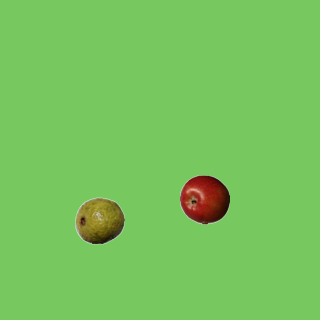Apple Braeburn: (179, 174, 229, 224)
Guava: (74, 195, 124, 245)
